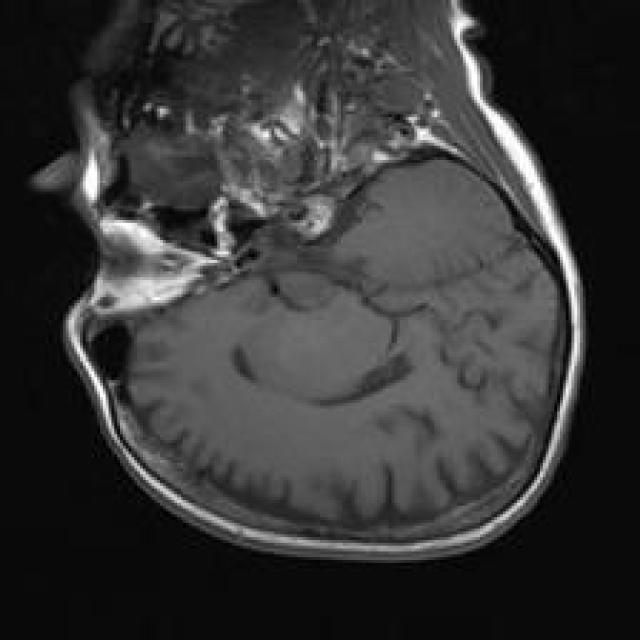no_tumor: (50, 0, 589, 572)
